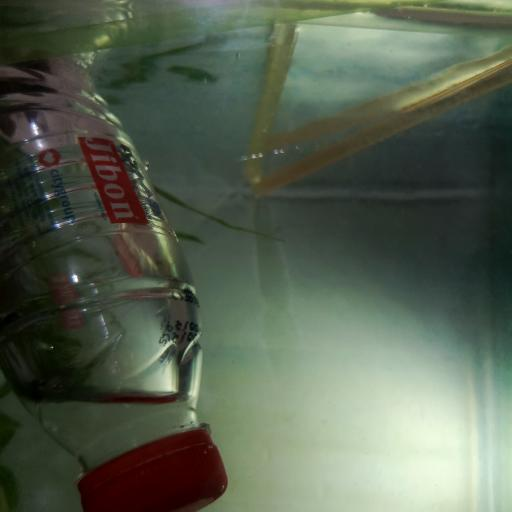bottle_cap: (74, 431, 227, 512)
plastic_bottle: (0, 43, 228, 512)
plastic_straw: (238, 53, 512, 194), (2, 0, 436, 59), (242, 24, 301, 192), (228, 0, 512, 31)
